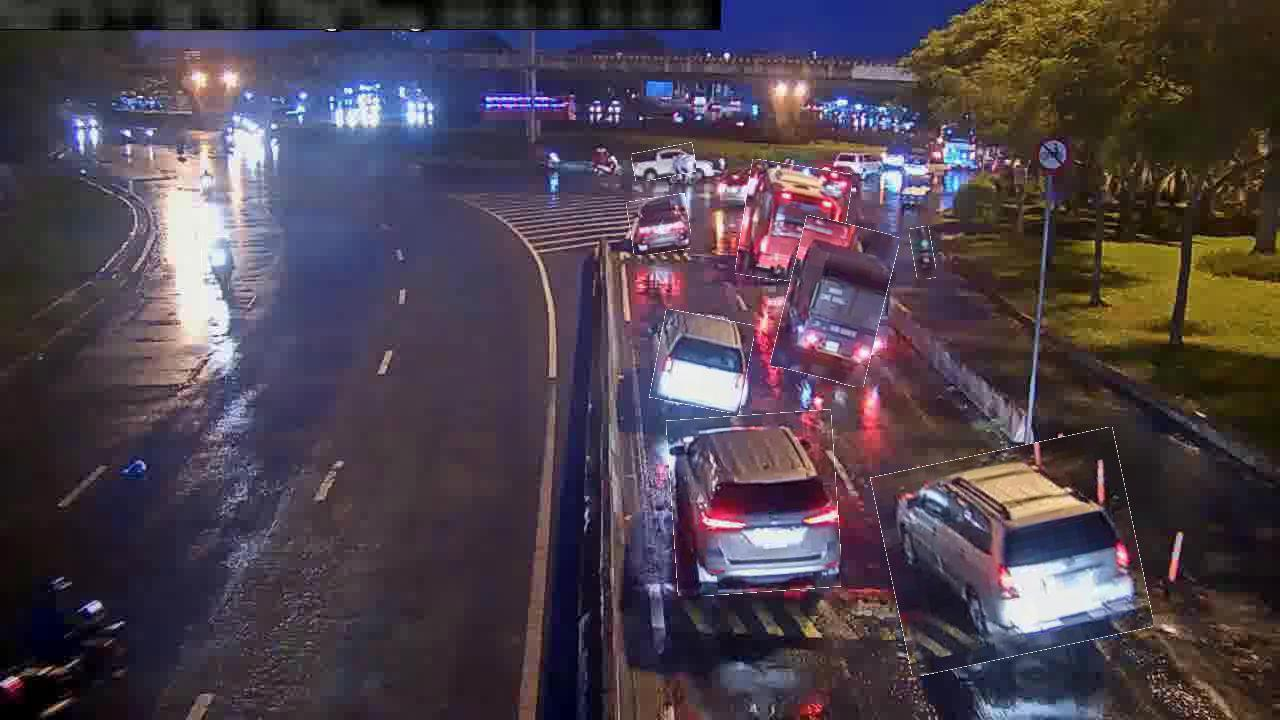14: (739, 162, 849, 286)
8: (778, 220, 892, 384)
container: (880, 439, 1145, 666), (669, 412, 840, 595), (653, 313, 752, 411), (628, 195, 691, 254), (632, 145, 696, 180)
motorbike: (202, 236, 230, 291), (911, 227, 935, 280)
